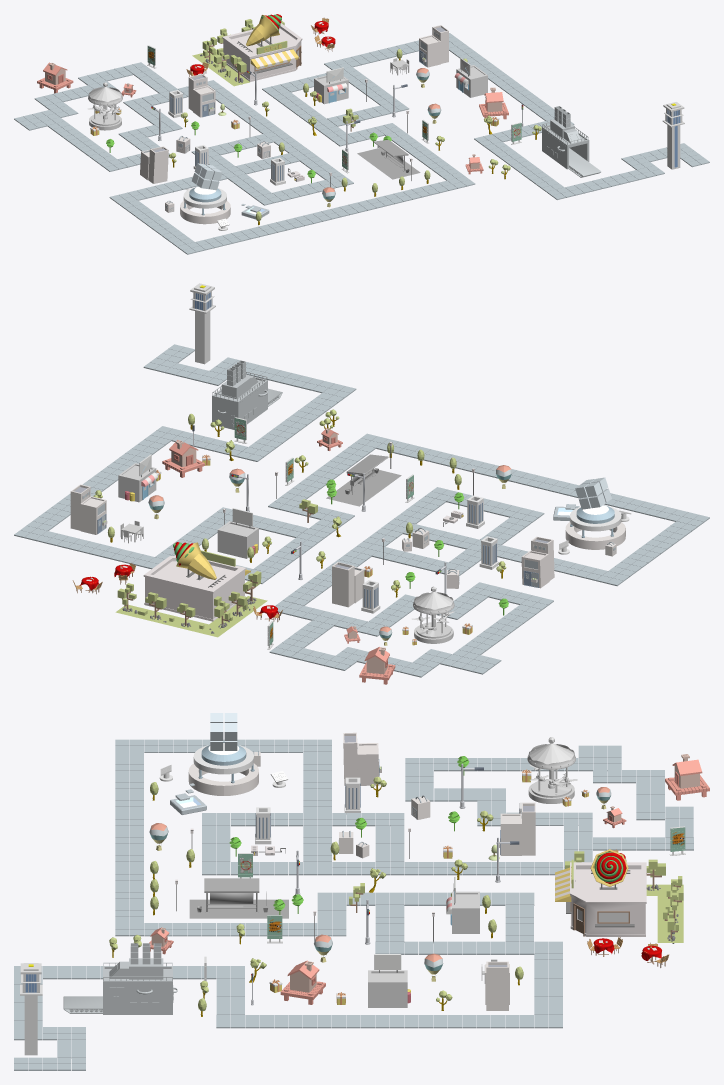
The model's file is maze.glb.
The picture shows the model from 3 angles, top to bottom: view 1: azimuth 30°, elevation 25°; view 2: azimuth 150°, elevation 25°; view 3: azimuth 270°, elevation 25°; orthographic projection. The views are drawn at different scales.
Parts seen in each view (by area): view 1: building7, building1, Torus, mofang, Cylinder_003, dec_2, Tower, door, door_1, fence, fence_2, Grass; view 2: building7, building1, mofang, Torus, dec_2, Cylinder_003, Grass, door, Tower, door_1, fence_2, fence; view 3: building7, Torus, building1, mofang, Cylinder_003, dec_2, door_1, Tower, door, fence, fence_2, Grass (+3 smaller).
Boxes of the visible parts, left/top/right/bottom form: building7: left=222, top=14, right=302, bottom=81; building1: left=140, top=25, right=448, bottom=183; Torus: left=542, top=106, right=601, bottom=177; mofang: left=180, top=163, right=230, bottom=224; Cylinder_003: left=357, top=139, right=420, bottom=179; dec_2: left=88, top=82, right=122, bottom=130; Tower: left=662, top=102, right=684, bottom=169; door: left=314, top=67, right=348, bottom=104; door_1: left=454, top=58, right=487, bottom=97; fence: left=37, top=62, right=73, bottom=93; fence_2: left=479, top=87, right=508, bottom=119; Grass: left=192, top=48, right=249, bottom=86; building7: left=143, top=542, right=250, bottom=621; building1: left=70, top=484, right=554, bottom=607; mofang: left=565, top=477, right=625, bottom=549; Torus: left=212, top=360, right=282, bottom=429; dec_2: left=412, top=586, right=454, bottom=643; Cylinder_003: left=326, top=454, right=401, bottom=506; Grass: left=115, top=596, right=267, bottom=637; door: left=217, top=508, right=258, bottom=558; Tower: left=189, top=283, right=215, bottom=364; door_1: left=118, top=454, right=157, bottom=502; fence_2: left=162, top=440, right=204, bottom=477; fence: left=359, top=647, right=395, bottom=684; building7: left=555, top=849, right=646, bottom=936; Torus: left=63, top=943, right=177, bottom=1014; building1: left=343, top=732, right=535, bottom=1010; mofang: left=188, top=713, right=258, bottom=795; Cylinder_003: left=189, top=878, right=288, bottom=918; dec_2: left=527, top=737, right=577, bottom=803; door_1: left=368, top=954, right=410, bottom=1007; Tower: left=20, top=963, right=42, bottom=1055; door: left=446, top=876, right=479, bottom=933; fence: left=665, top=754, right=709, bottom=800; fence_2: left=280, top=960, right=325, bottom=1004; Grass: left=646, top=884, right=683, bottom=942.
Bounding box in the file's own units: 11.07 × 1.43 × 9.87.
62 materials, 3 textured.
